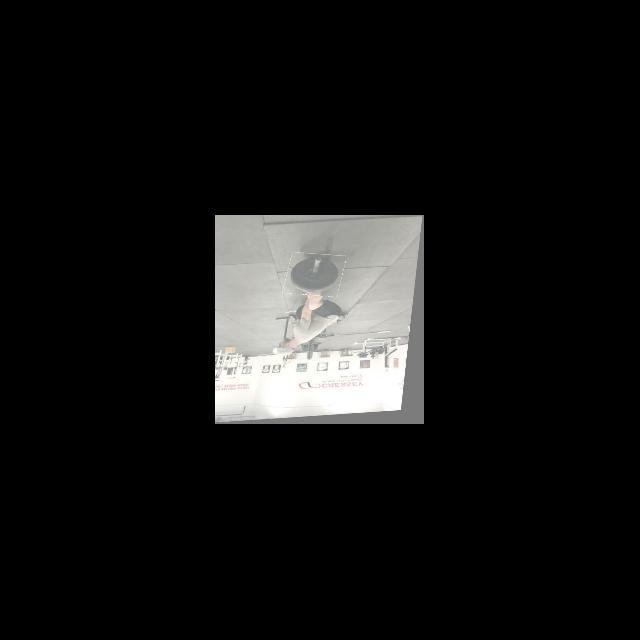barbell: (285, 252, 347, 300)
